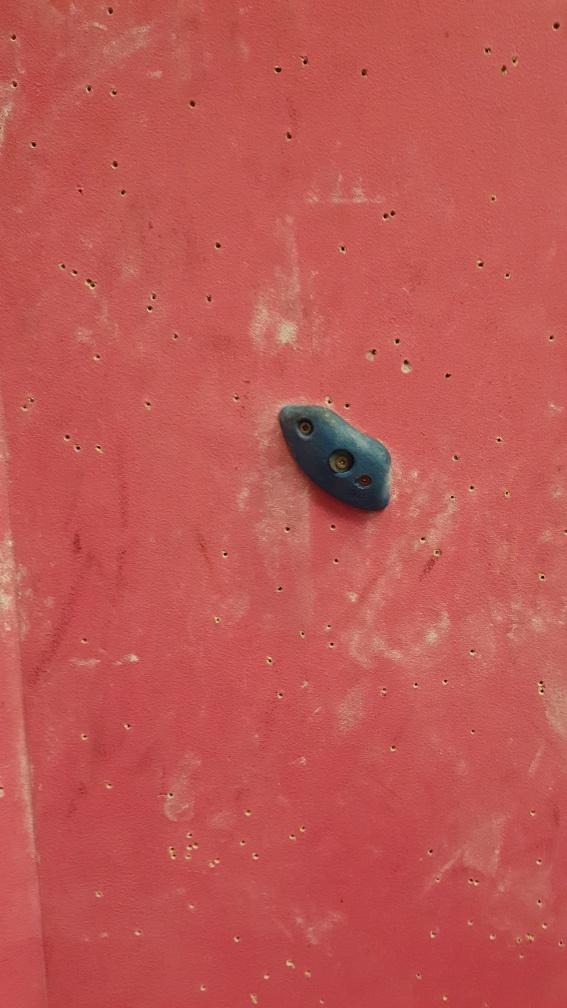Crimp: (274, 402, 396, 513)
